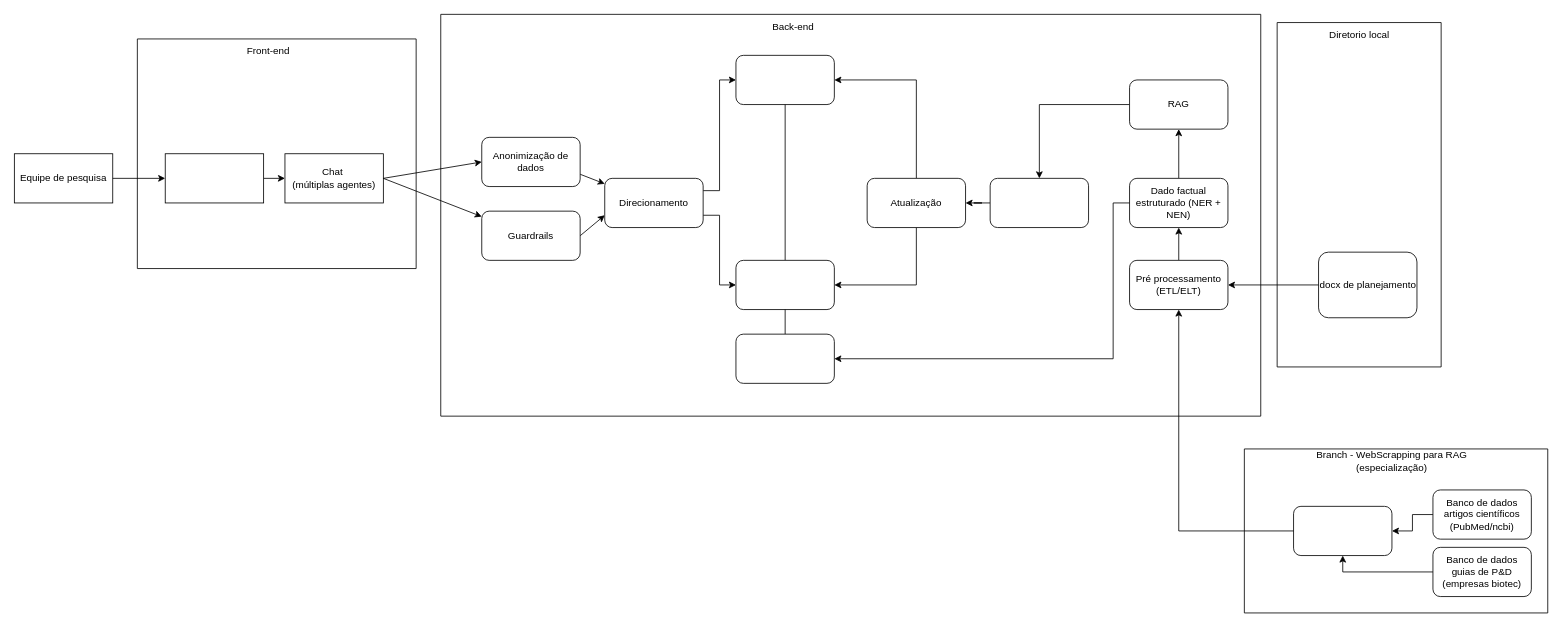
The diagram is 1562 pixels wide and 627 high, and some of its shapes have lost their labels. The shapes that lost their labels are listed below. From the top down, each one's centre as x and y in pixels, then its label:
(x=784, y=80): Agente Redator técnico
(x=214, y=178): Login
(x=1039, y=203): Embedding textual
(x=784, y=285): Agente Gerenciador de material
(x=784, y=358): Banco de dados
(x=1342, y=531): Scraping
